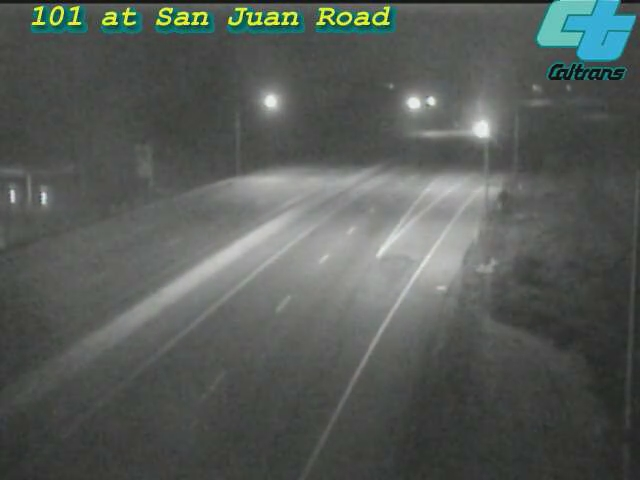vehicle: (453, 106, 503, 156)
